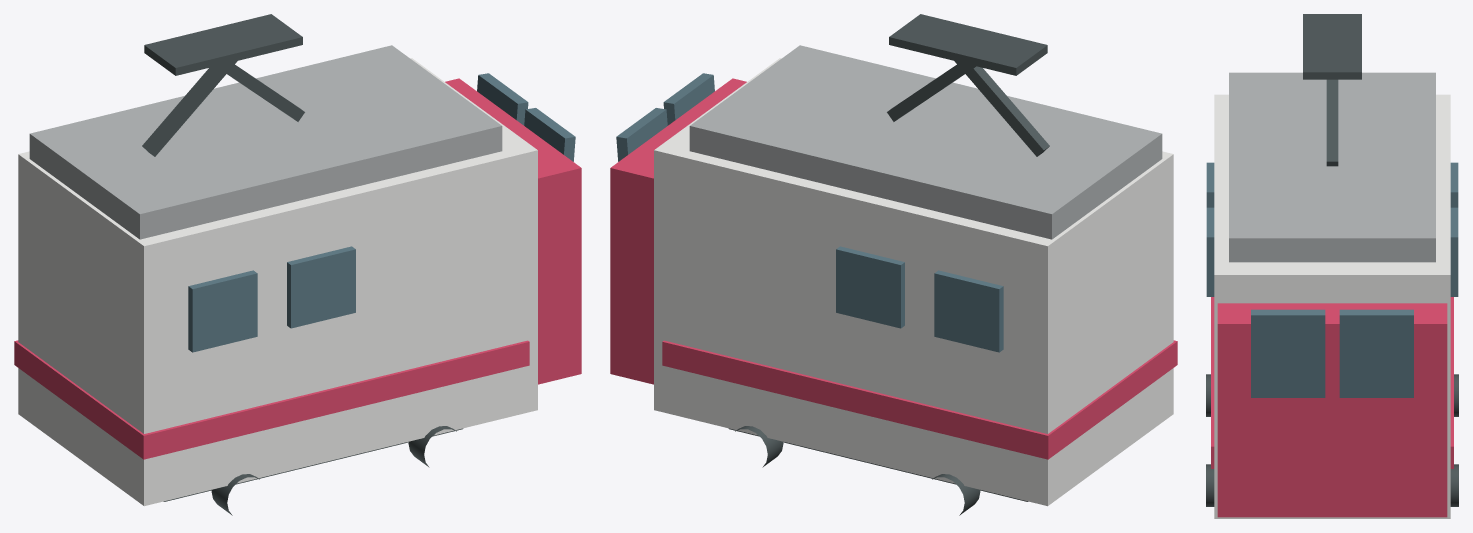
3 renders of one model, left to right at view 1: azimuth 30°, elevation 25°; view 2: azimuth 150°, elevation 25°; view 3: azimuth 270°, elevation 25°, orthographic. The views are drawn at different scales.
Parts seen in each view (by area): view 1: body_shell, roof, livery_stripe, br147_red_cab, pantograph_head_-0.18, window_0.72_0_1, window_0.72_1_1, pantograph_left_-0.18, front_glass_right, front_glass_left, pantograph_right_-0.18; view 2: body_shell, roof, livery_stripe, br147_red_cab, pantograph_head_-0.18, window_0.72_0_0, window_0.72_1_0, pantograph_left_-0.18, front_glass_left, front_glass_right, pantograph_right_-0.18; view 3: roof, br147_red_cab, body_shell, front_glass_left, front_glass_right, pantograph_head_-0.18, livery_stripe, pantograph_right_-0.18, window_0.72_1_0, window_0.72_1_1, window_0.72_0_0, window_0.72_0_1 (+2 smaller).
Part boxes in pixels (x1,y1,x2,y2): body_shell: (18, 58, 537, 506); roof: (29, 45, 502, 239); livery_stripe: (14, 340, 529, 459); br147_red_cab: (445, 78, 581, 384); pantograph_head_-0.18: (144, 14, 302, 75); window_0.72_0_1: (188, 270, 257, 352); window_0.72_1_1: (287, 246, 355, 328); pantograph_left_-0.18: (142, 61, 237, 156); front_glass_right: (524, 108, 575, 161); front_glass_left: (477, 73, 528, 125); pantograph_right_-0.18: (216, 63, 304, 121); body_shell: (654, 58, 1173, 506); roof: (689, 45, 1162, 239); livery_stripe: (662, 340, 1177, 459); br147_red_cab: (610, 78, 746, 384); pantograph_head_-0.18: (889, 14, 1047, 75); window_0.72_0_0: (934, 270, 1003, 352); window_0.72_1_0: (836, 246, 904, 328); pantograph_left_-0.18: (954, 61, 1049, 156); front_glass_left: (616, 108, 667, 161); front_glass_right: (663, 73, 714, 125); pantograph_right_-0.18: (887, 64, 975, 121); roof: (1229, 72, 1435, 262); br147_red_cab: (1217, 303, 1447, 517); body_shell: (1214, 94, 1450, 518); front_glass_left: (1339, 309, 1413, 397); front_glass_right: (1251, 309, 1325, 397); pantograph_head_-0.18: (1303, 14, 1361, 79); livery_stripe: (1211, 297, 1453, 468); pantograph_right_-0.18: (1326, 79, 1338, 166); window_0.72_1_0: (1450, 207, 1458, 296); window_0.72_1_1: (1206, 207, 1214, 296); window_0.72_0_0: (1450, 162, 1458, 207); window_0.72_0_1: (1206, 162, 1214, 207).
Bounding box in the file's own units: 1.5 × 1.32 × 0.77.
